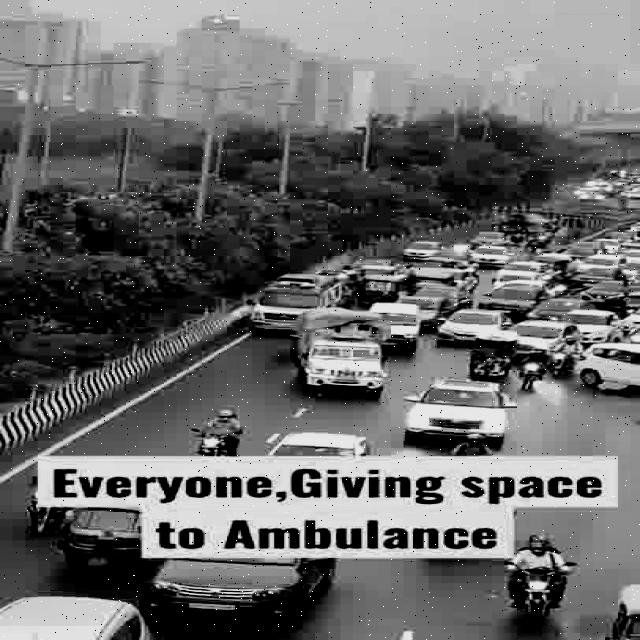Ambulance: (255, 270, 347, 308)
